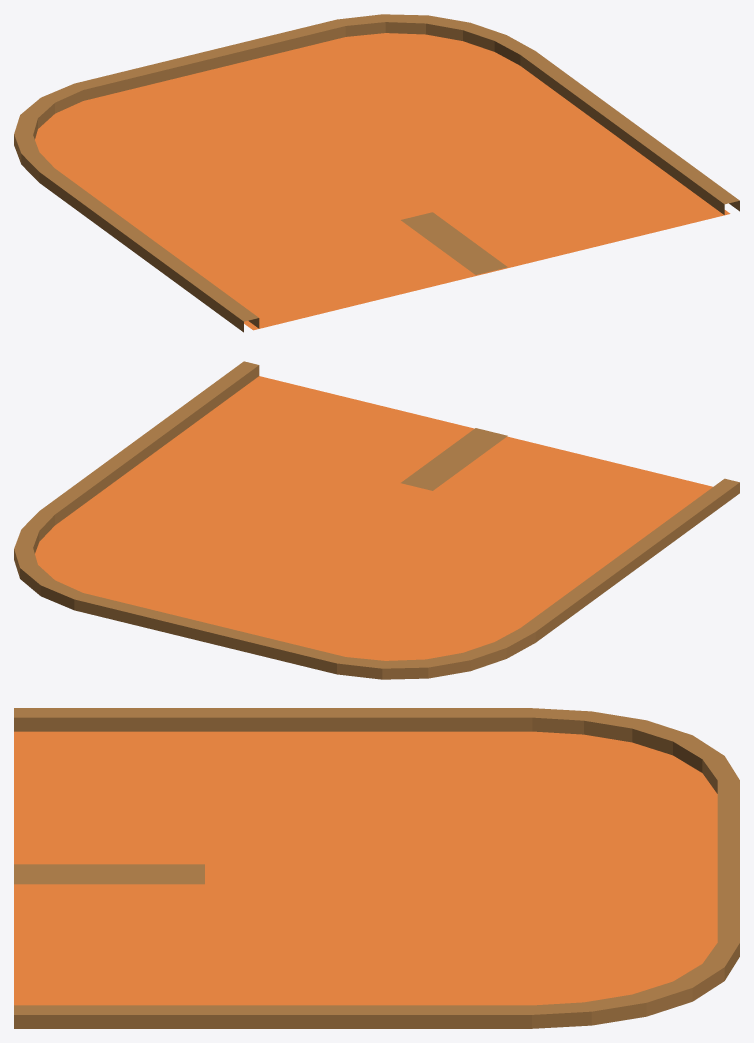
Rendered from Map-Road-end.fbx.
3 renders of one model, top to bottom at view 1: azimuth 30°, elevation 25°; view 2: azimuth 150°, elevation 25°; view 3: azimuth 270°, elevation 25°, orthographic. The views are drawn at different scales.
Parts seen in each view (by area): view 1: Map-Road-end; view 2: Map-Road-end; view 3: Map-Road-end.
Part boxes in pixels (bbox=[...]): Map-Road-end: bbox=[14, 14, 739, 332]; Map-Road-end: bbox=[14, 361, 739, 679]; Map-Road-end: bbox=[14, 708, 739, 1028].
Size of the model in its own units: 2 by 0.0423 by 2.
